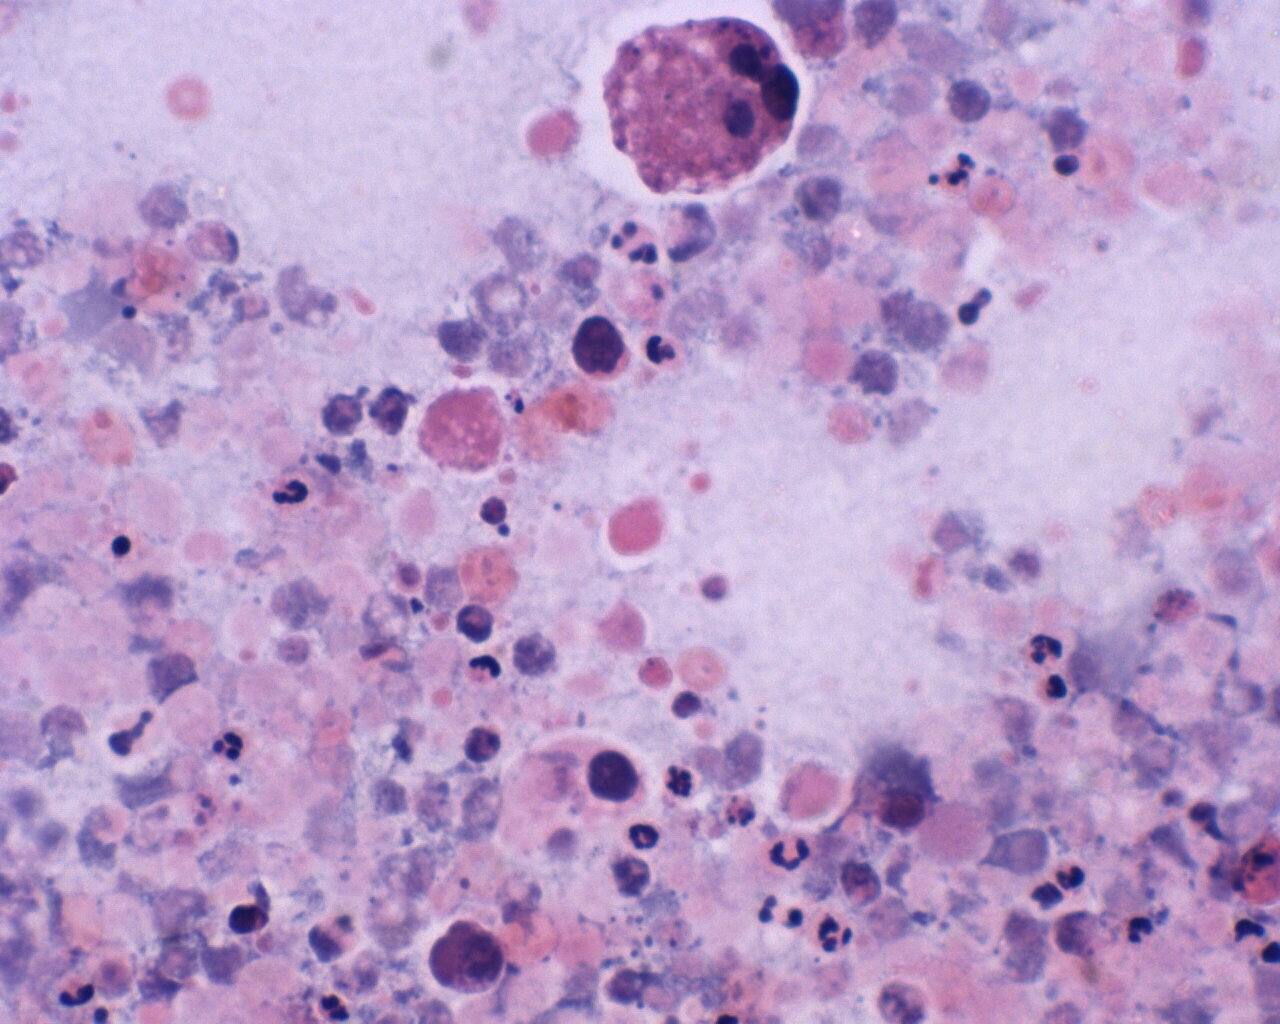ab: (426, 915, 511, 1005), (563, 315, 639, 388)
neutro: (766, 830, 819, 872), (813, 912, 859, 961), (1026, 625, 1068, 669), (622, 817, 667, 858), (270, 470, 313, 509)
